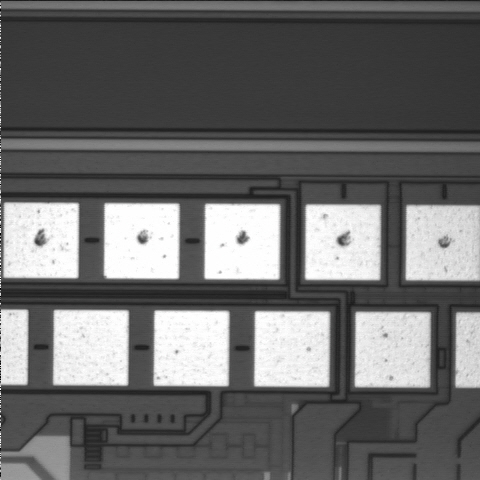pad: (204, 204, 280, 280), (53, 310, 129, 386), (254, 311, 330, 387), (104, 203, 179, 279), (305, 205, 381, 280), (154, 310, 229, 386), (4, 203, 79, 278), (355, 312, 430, 387)
